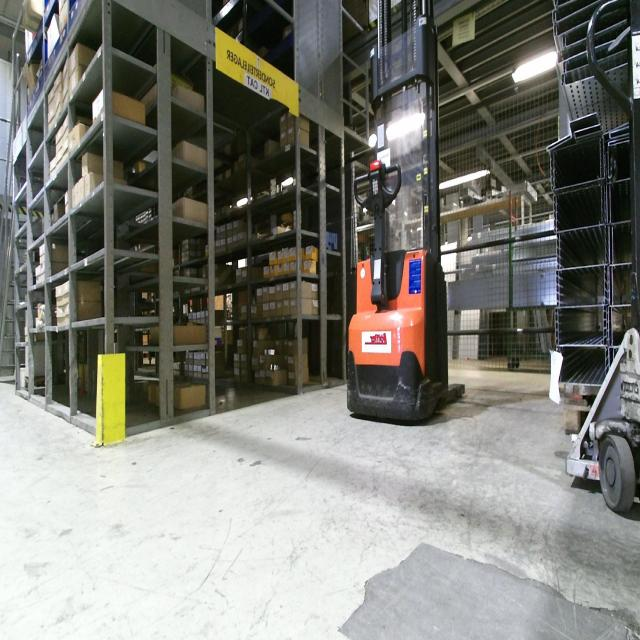pallet_truck: (343, 0, 467, 425), (551, 5, 638, 532)
